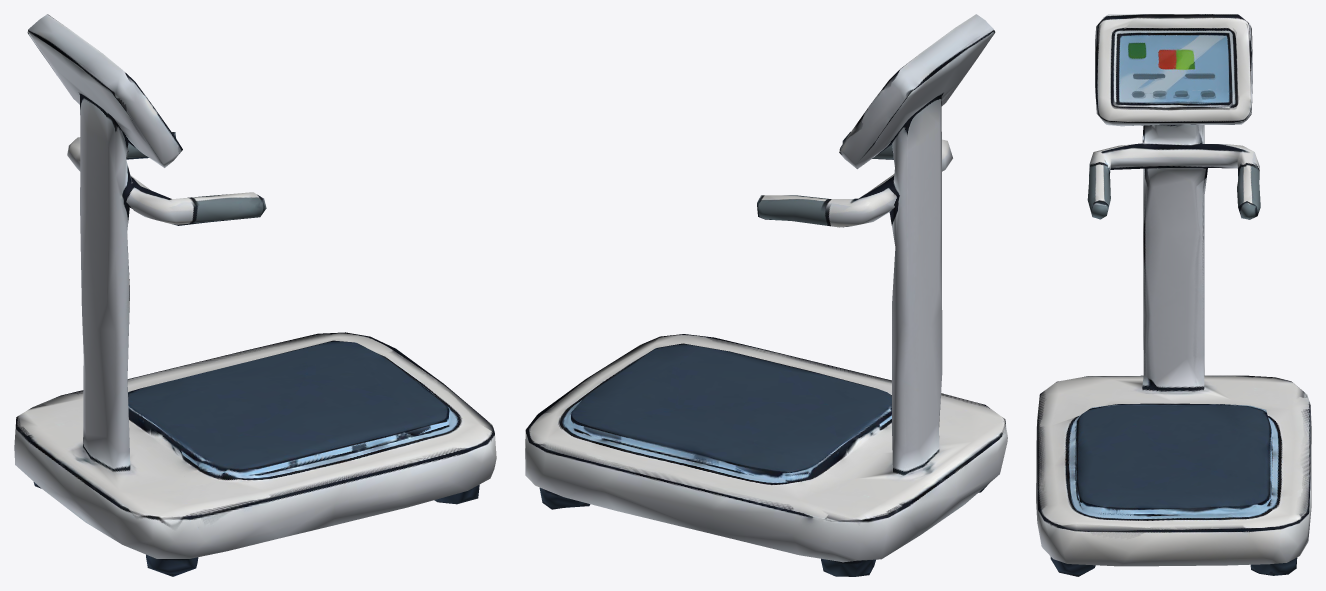
File: Weight.fbx
3 renders of one model, left to right at view 1: azimuth 30°, elevation 25°; view 2: azimuth 150°, elevation 25°; view 3: azimuth 270°, elevation 25°, orthographic. The views are drawn at different scales.
Parts seen in each view (by area): view 1: tripo_node_59f1fac1; view 2: tripo_node_59f1fac1; view 3: tripo_node_59f1fac1.
Boxes of the visible parts, box(x1,y1,x2,y2) form: tripo_node_59f1fac1: box(14, 14, 496, 576); tripo_node_59f1fac1: box(525, 14, 1007, 576); tripo_node_59f1fac1: box(1036, 14, 1311, 576).
Size of the model in its own units: 0.7944 by 0.9992 by 0.5891.
Materials: 1 (1 with a texture image).
